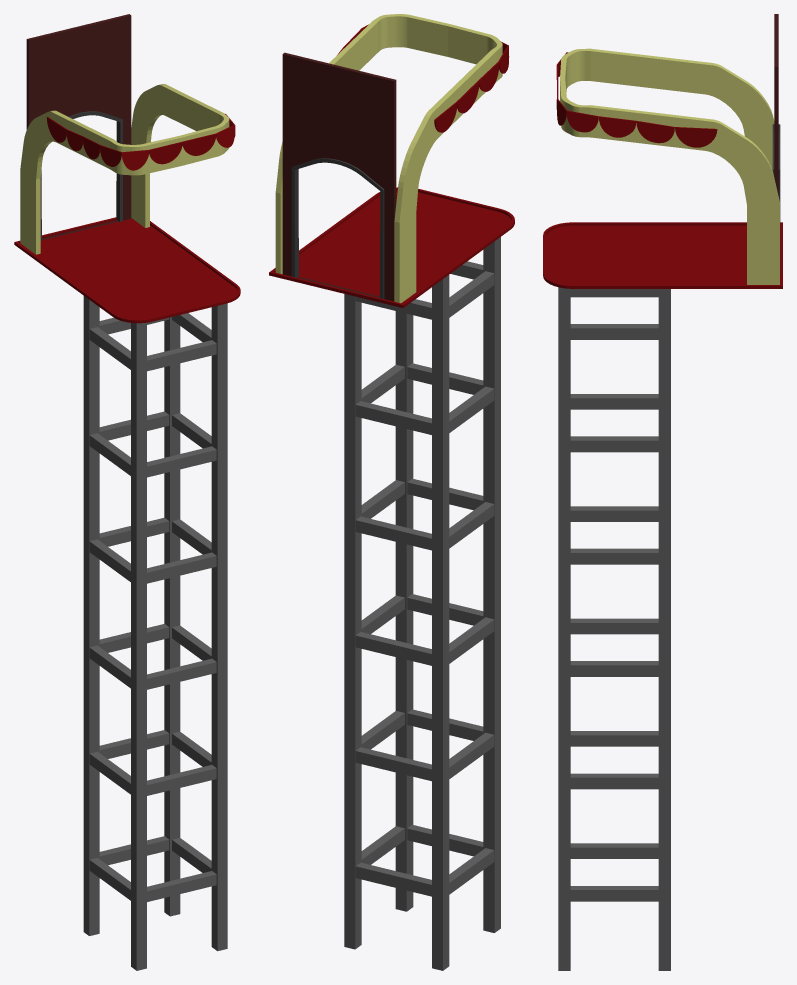
Rendered from Start_Platform.fbx.
3 views of the same model, side by side, from view 1: azimuth 30°, elevation 25°; view 2: azimuth 150°, elevation 25°; view 3: azimuth 270°, elevation 25° (orthographic). The views are drawn at different scales.
Visible parts, largest first — view 1: Start_Platform; view 2: Start_Platform; view 3: Start_Platform.
Part boxes in pixels (x1,y1,x2,y2): Start_Platform: (14,14,240,970); Start_Platform: (269,14,514,970); Start_Platform: (543,14,782,970).
Bounding box in the file's own units: 353 × 2275 × 545.
